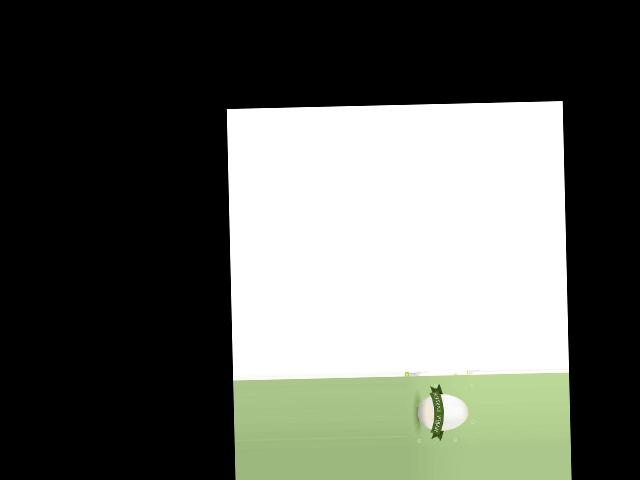egg: (417, 393, 468, 430)
